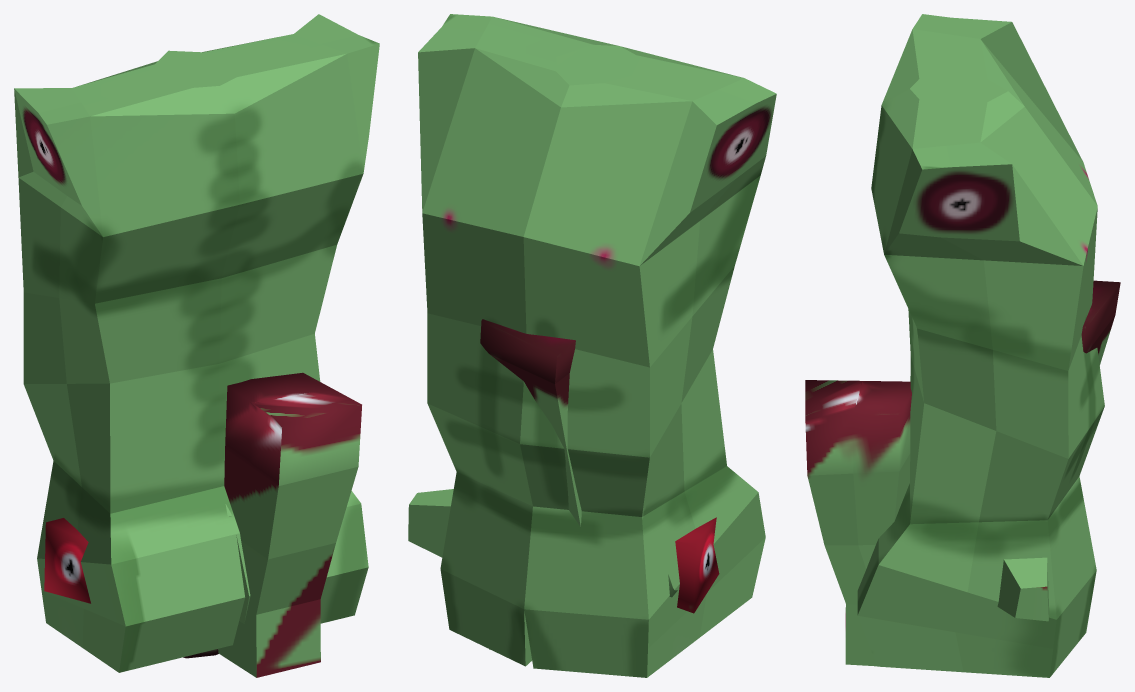
Rendered from zombie_apart.fbx.
3 renders of one model, left to right at view 1: azimuth 30°, elevation 25°; view 2: azimuth 150°, elevation 25°; view 3: azimuth 270°, elevation 25°, orthographic. The views are drawn at different scales.
Visible parts, largest first — view 1: zombie_chest, zombie_legLower, zombie_arm.Lower; view 2: zombie_chest, zombie_leg, zombie_arm.Lower; view 3: zombie_chest, zombie_legLower, zombie_arm.Lower, zombie_leg.
Boxes of the visible parts, box(x1,y1,x2,y2) form: zombie_chest: box(14, 14, 379, 672); zombie_legLower: box(218, 372, 361, 677); zombie_arm.Lower: box(44, 518, 90, 603); zombie_chest: box(418, 14, 776, 677); zombie_leg: box(480, 319, 581, 526); zombie_arm.Lower: box(408, 489, 719, 613); zombie_chest: box(857, 14, 1104, 677); zombie_legLower: box(805, 380, 911, 666); zombie_arm.Lower: box(997, 557, 1049, 621); zombie_leg: box(1081, 280, 1120, 365).
Size of the model in its own units: 112 by 184 by 95.59.
1 material, 1 textured.
